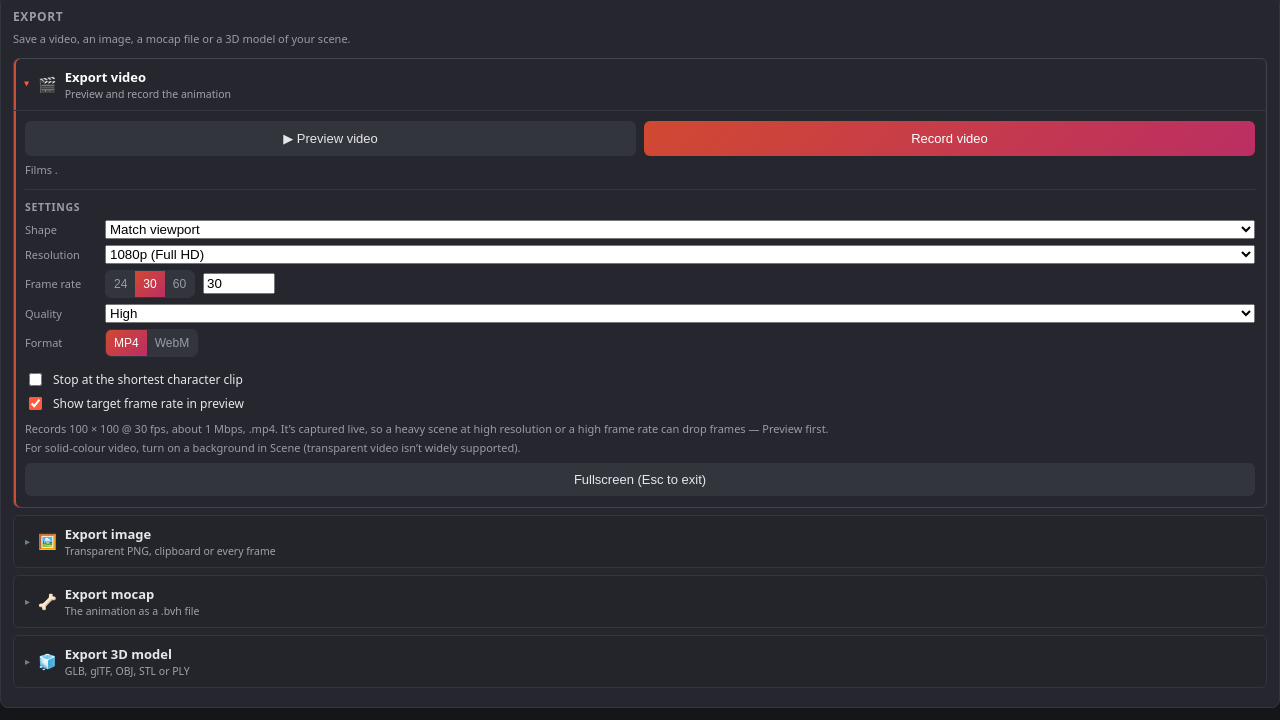
Test: Export panel — copy images › reports clipboard failures instead of claiming the image was copied
Click the button "▸ 🖼️ Export image Transparent PNG, clipboard or every frame": (108, 534) [14,516,1266,566]
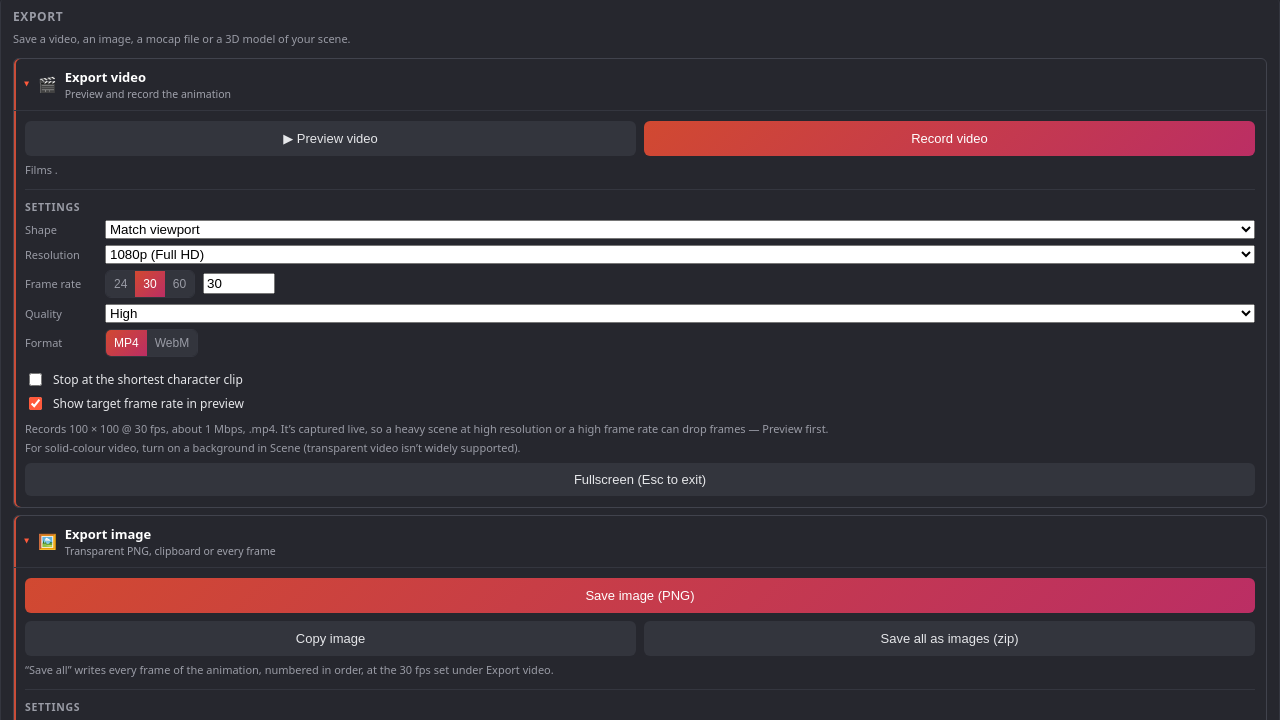
Click the button "Copy image": (330, 638) [25,620,636,656]
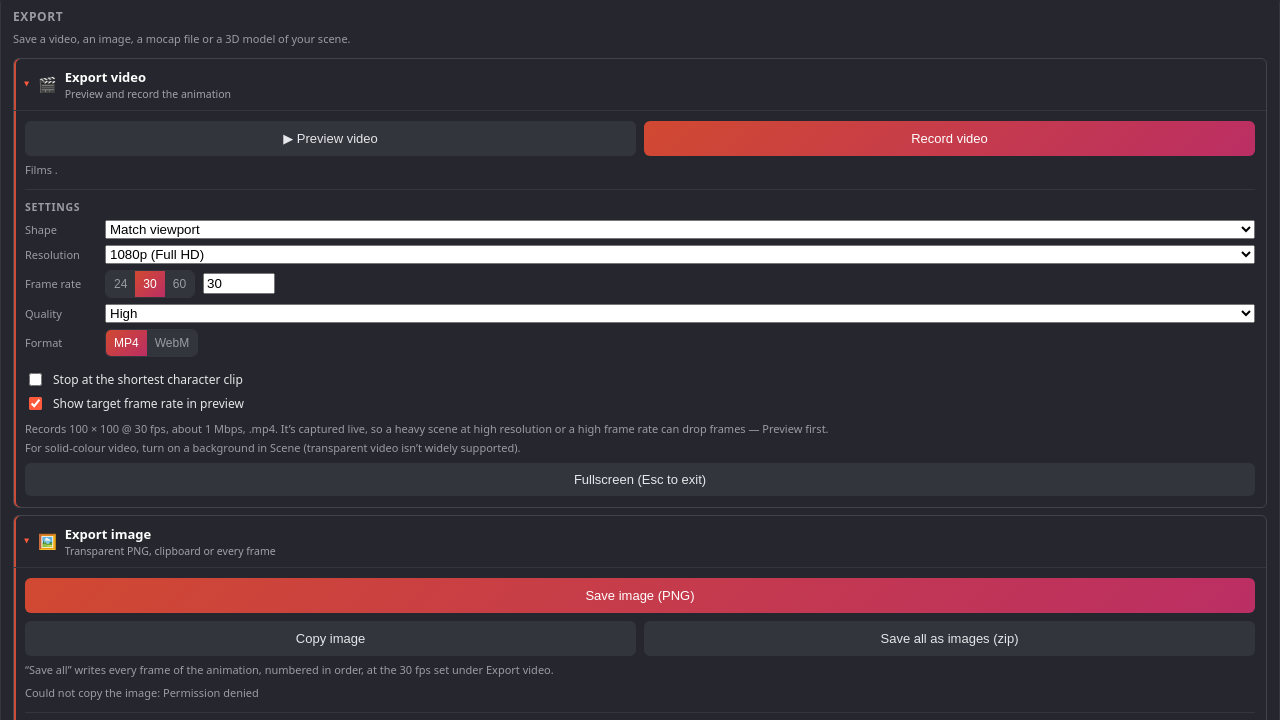
Expected: the button "Copy image" is enabled, [25,620,636,656]
Expected: the text "Could not copy the image: Permission denied" is shown, [25,684,259,700]
